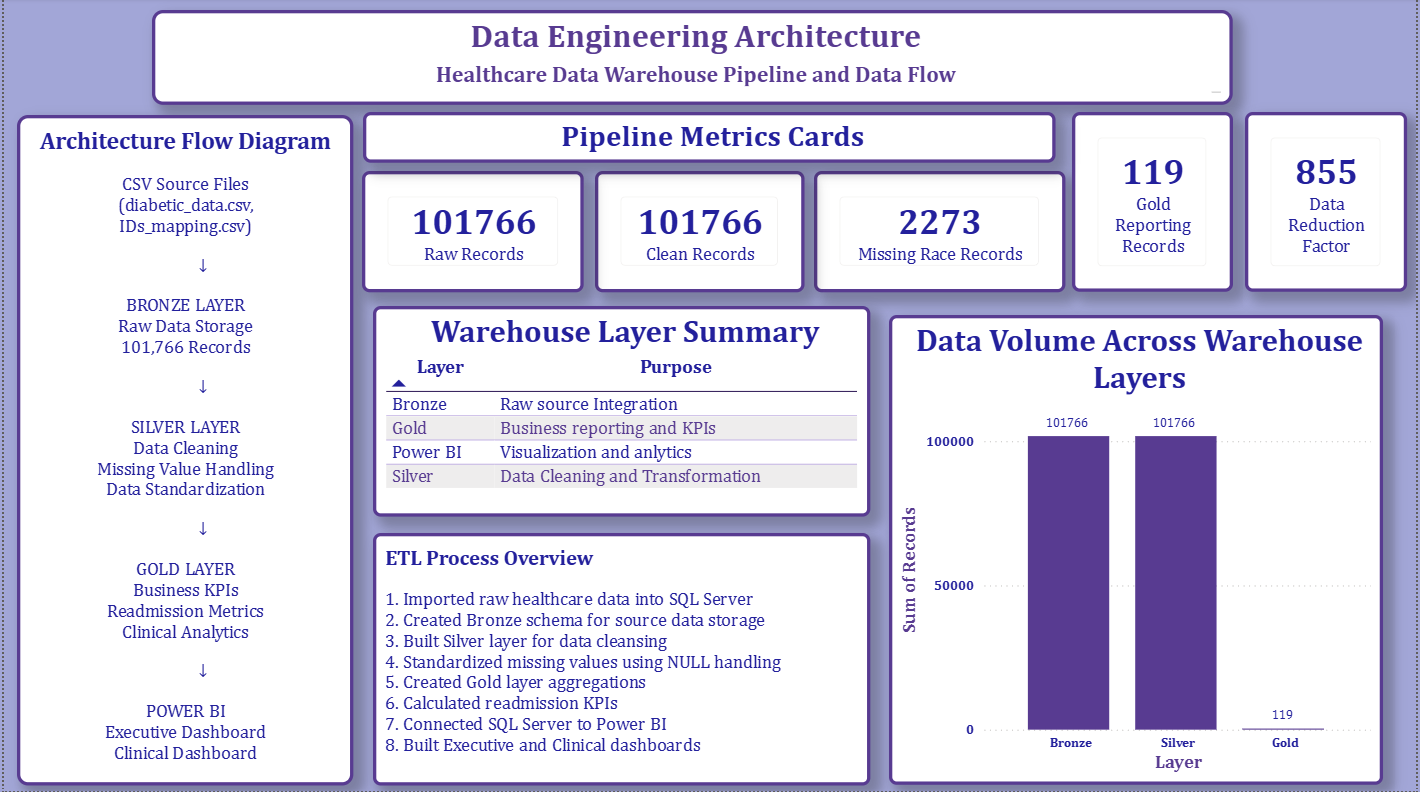

The dashboard page shown, as its layout file describes it:
{"tool":"powerbi","page":{"name":"Data Engineering Architecture","canvas":[1280,720],"ordinal":2},"visuals":[{"type":"textbox","title":"Data Engineering Architecture","box":[134.2,10.7,980.4,85.6],"z":0},{"type":"textbox","box":[11.7,106,305.4,607.9],"z":1000},{"type":"cardVisual","fields":{"Data":["gold readmission_summary.Data Quality Improvement"]},"box":[734.3,156.6,227.6,109.9],"z":2000},{"type":"cardVisual","fields":{"Data":["gold readmission_summary.Gold Aggregations"]},"box":[968.8,103.1,145.9,163.4],"z":3000},{"type":"cardVisual","fields":{"Data":["gold readmission_summary.Silver Records"]},"box":[535.9,156.6,189.7,109.9],"z":4000},{"type":"cardVisual","fields":{"Data":["gold readmission_summary.Total Raw Records"]},"box":[324.9,156.6,201.3,109.9],"z":5000},{"type":"tableEx","title":"Warehouse Layer Summary","fields":{"Values":["Warehouse Layers.Layer","Warehouse Layers.Purpose"]},"box":[334.6,279.1,451.3,190.6],"z":6000},{"type":"textbox","box":[334.6,485.3,451.3,228.6],"z":7000},{"type":"textbox","title":"Pipeline Metrics Cards","box":[325.8,103.1,628.3,45.7],"z":8000},{"type":"clusteredColumnChart","title":"Data Volume Across Warehouse Layers","fields":{"Category":["Data Volume.Layer"],"Y":["Sum(Data Volume.Records)"]},"box":[802.4,287.9,448.4,426],"z":9000},{"type":"cardVisual","fields":{"Data":["Data Volume.Data Reduction Factor"]},"box":[1125.3,103.1,146.9,163.4],"z":9001}]}

Visuals, with their boxes in screenshot pixels (x1, y1, x2, y2), scaled from the page's 1280x720 canvas onto the 1420x792 screenshot:
"Data Engineering Architecture" textbox: [x1=149, y1=12, x2=1237, y2=106]
textbox: [x1=13, y1=117, x2=352, y2=785]
cardVisual - gold readmission_summary.Data Quality Improvement: [x1=815, y1=172, x2=1067, y2=293]
cardVisual - gold readmission_summary.Gold Aggregations: [x1=1075, y1=113, x2=1237, y2=293]
cardVisual - gold readmission_summary.Silver Records: [x1=595, y1=172, x2=805, y2=293]
cardVisual - gold readmission_summary.Total Raw Records: [x1=360, y1=172, x2=584, y2=293]
"Warehouse Layer Summary" tableEx: [x1=371, y1=307, x2=872, y2=517]
textbox: [x1=371, y1=534, x2=872, y2=785]
"Pipeline Metrics Cards" textbox: [x1=361, y1=113, x2=1058, y2=164]
"Data Volume Across Warehouse Layers" clusteredColumnChart: [x1=890, y1=317, x2=1388, y2=785]
cardVisual - Data Volume.Data Reduction Factor: [x1=1248, y1=113, x2=1411, y2=293]
